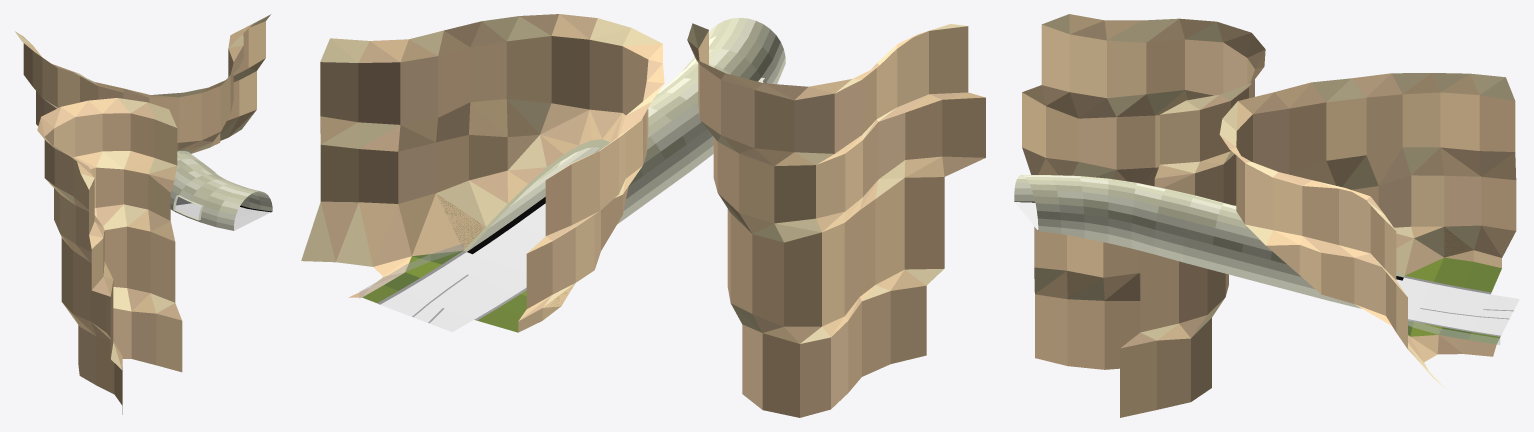
3 views of the same model, side by side, from view 1: azimuth 30°, elevation 25°; view 2: azimuth 150°, elevation 25°; view 3: azimuth 270°, elevation 25° (orthographic). The views are drawn at different scales.
Visible parts, largest first — view 1: O298A8; view 2: O298A8; view 3: O298A8.
Boxes of the visible parts, bbox=[...] form: O298A8: bbox=[15, 14, 272, 414]; O298A8: bbox=[301, 14, 985, 417]; O298A8: bbox=[1014, 14, 1519, 417].
Size of the model in its own units: 131 by 97 by 137.
